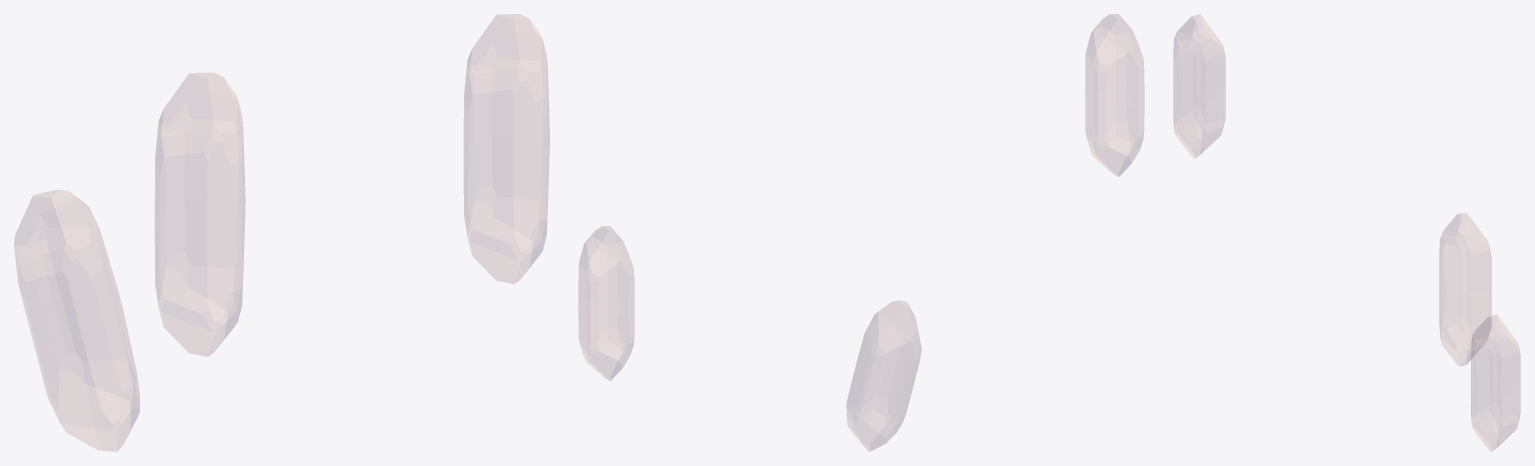
The model's file is crytal_with_land.gltf.
3 views of the same model, side by side, from view 1: azimuth 30°, elevation 25°; view 2: azimuth 150°, elevation 25°; view 3: azimuth 270°, elevation 25° (orthographic). The views are drawn at different scales.
Parts seen in each view (by area): view 1: crystarBase.001, crystarBase.002, crystarBase.004; view 2: crystarBase.001, crystarBase.002, crystarBase.004; view 3: crystarBase.002, crystarBase.001, crystarBase.004.
Boxes of the visible parts, left/top/right/bottom form: crystarBase.001: left=155, top=73, right=245, bottom=356; crystarBase.002: left=14, top=190, right=139, bottom=451; crystarBase.004: left=464, top=14, right=549, bottom=283; crystarBase.001: left=1085, top=14, right=1144, bottom=176; crystarBase.002: left=846, top=300, right=921, bottom=451; crystarBase.004: left=578, top=226, right=634, bottom=380; crystarBase.002: left=1439, top=213, right=1491, bottom=366; crystarBase.001: left=1173, top=14, right=1225, bottom=158; crystarBase.004: left=1471, top=314, right=1520, bottom=451.
Bounding box in the file's own units: 1.44 × 1.22 × 1.25.
